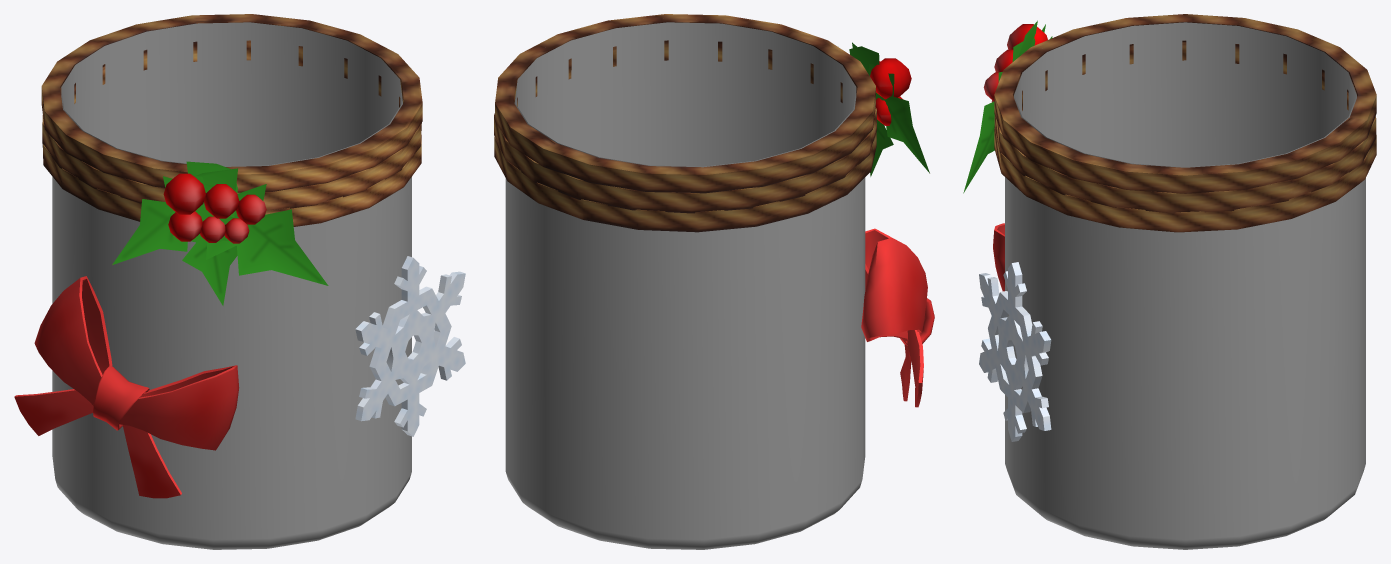
The model's file is 57_Holder_Winter.fbx.
The picture shows the model from 3 angles, left to right: view 1: azimuth 30°, elevation 25°; view 2: azimuth 150°, elevation 25°; view 3: azimuth 270°, elevation 25°; orthographic projection.
Parts seen in each view (by area): view 1: Winter_part01, Winter_part02; view 2: Winter_part01, Winter_part02; view 3: Winter_part01, Winter_part02.
Part boxes in pixels (bbox=[...]): Winter_part01: bbox=[52, 22, 411, 549]; Winter_part02: bbox=[14, 14, 465, 498]; Winter_part01: bbox=[505, 22, 865, 549]; Winter_part02: bbox=[494, 14, 934, 407]; Winter_part01: bbox=[1005, 22, 1365, 549]; Winter_part02: bbox=[963, 14, 1376, 441].
Size of the model in its own units: 2.46 by 2.4 by 2.24.
